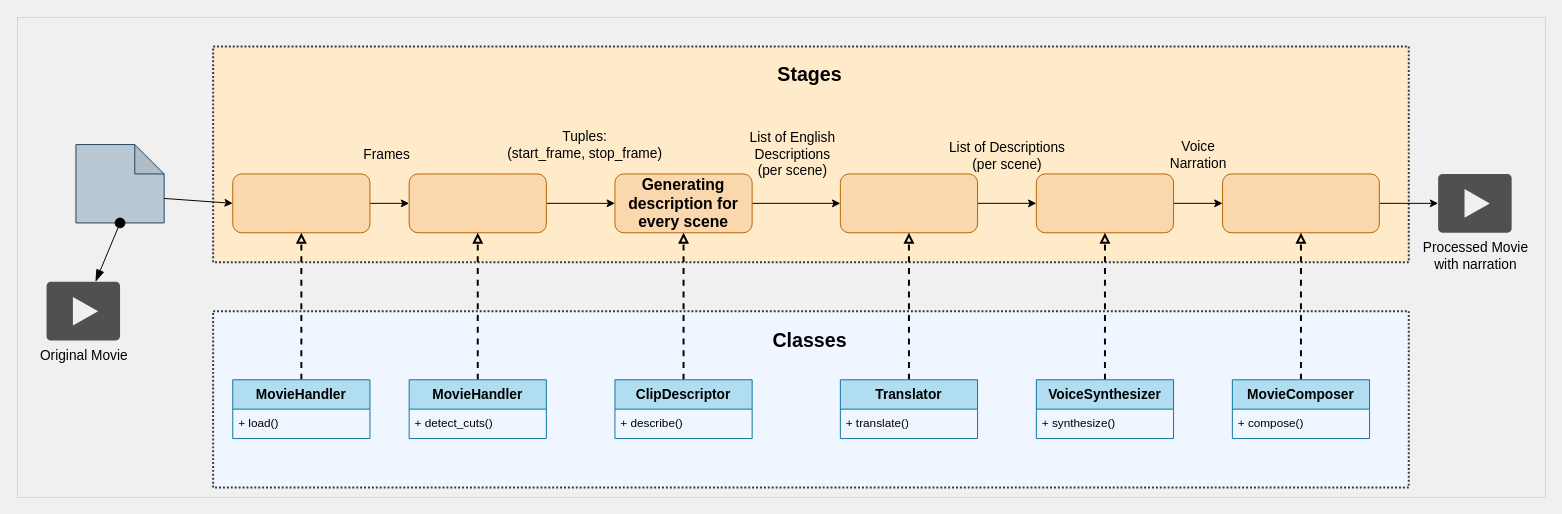
Some shapes in this 1562 by 514 pixel diagram are drawn without their labels. The centre of each missing label's shape, as x and y in pixels:
(Optional) Translation to other language: the point at 908,203
Adding synthesized voice to original movie: the point at 1300,203
Loading movie: the point at 301,203
Movie path: the point at 119,183
Splitting into scenes: the point at 477,203
Synthesizing text description to voice description: the point at 1104,203
